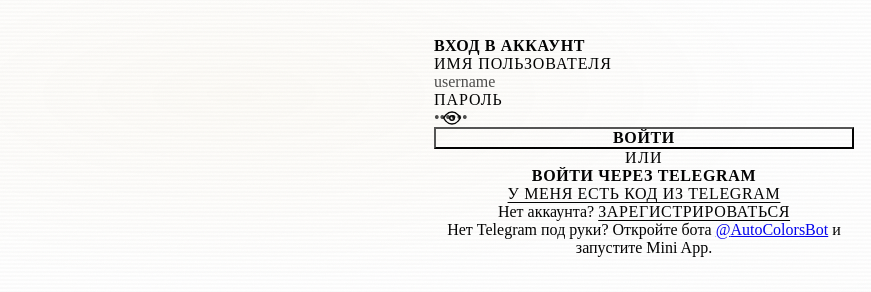
Scenario: AuthForm › renders register mode when switched
Click the button "Зарегистрироваться" at (694, 212), box 598,203 -> 790,221
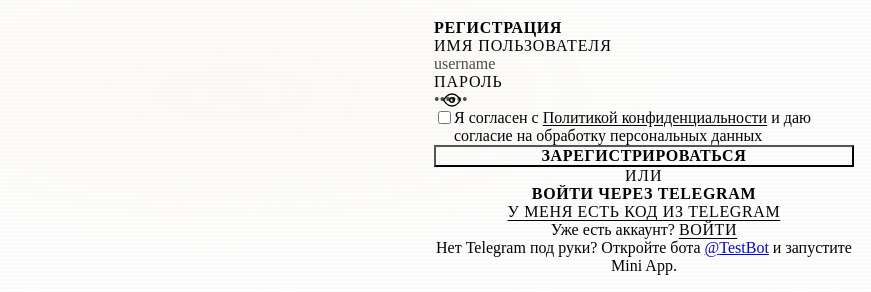
Result: the text "Регистрация" is shown at 434,19 -> 562,36
Result: the checkbox is shown at 438,111 -> 451,124
